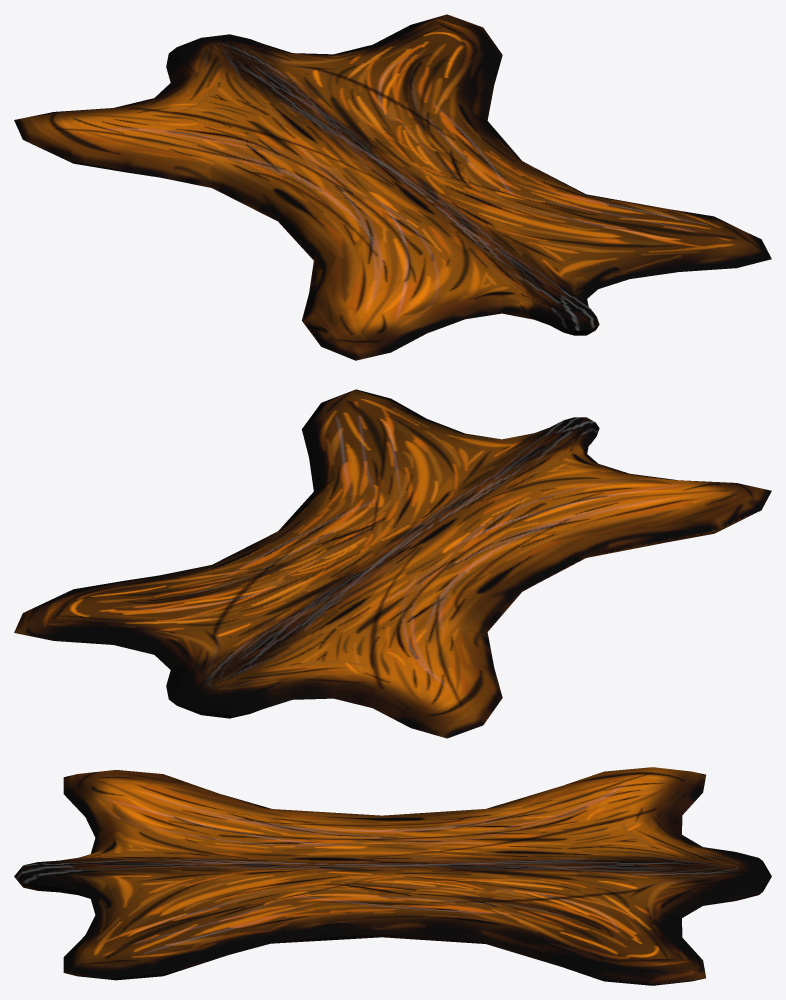
File: UnityLeder.fbx
The picture shows the model from 3 angles, top to bottom: view 1: azimuth 30°, elevation 25°; view 2: azimuth 150°, elevation 25°; view 3: azimuth 270°, elevation 25°; orthographic projection. The views are drawn at different scales.
Parts seen in each view (by area): view 1: Cube; view 2: Cube; view 3: Cube.
Boxes of the visible parts, x1,y1,x2,y2 form: Cube: (14, 14, 771, 360); Cube: (14, 389, 771, 738); Cube: (14, 767, 771, 985).
Size of the model in its own units: 380 by 20.16 by 562.
